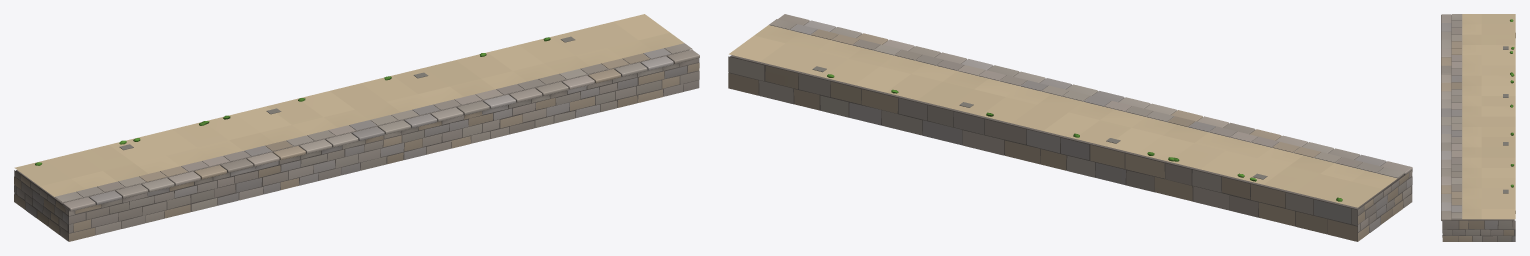
Rendered from platform.glb.
The picture shows the model from 3 angles, left to right: view 1: azimuth 30°, elevation 25°; view 2: azimuth 150°, elevation 25°; view 3: azimuth 270°, elevation 25°; orthographic projection. The views are drawn at different scales.
Parts seen in each view (by area): view 1: Platform Plaster; view 2: Platform Plaster; view 3: Platform Plaster, Platform Leaf.
Boxes of the visible parts, box(x1,y1,x2,y2) form: Platform Plaster: box(14, 14, 699, 241); Platform Plaster: box(728, 14, 1412, 241); Platform Plaster: box(1441, 14, 1515, 241); Platform Leaf: box(1509, 19, 1514, 187).
Bounding box in the file's own units: 30.07 × 1.67 × 4.62.
